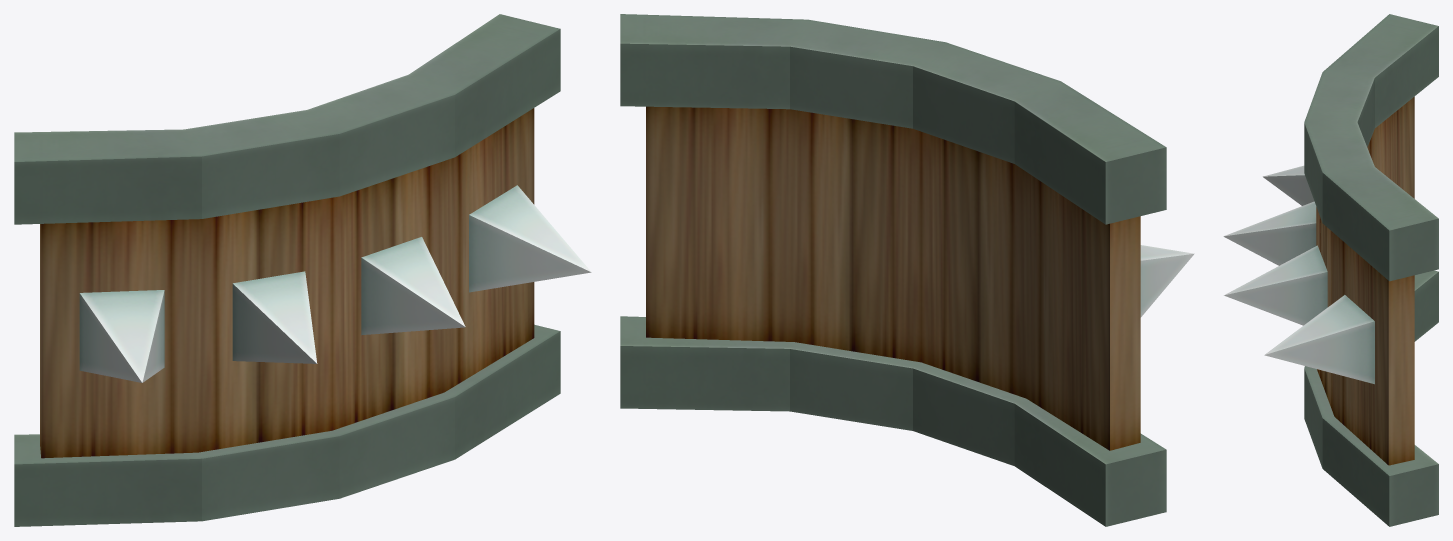
The model's file is Trap01.FBX.
The picture shows the model from 3 angles, left to right: view 1: azimuth 30°, elevation 25°; view 2: azimuth 150°, elevation 25°; view 3: azimuth 270°, elevation 25°; orthographic projection. The views are drawn at different scales.
Visible parts, largest first — view 1: Trap01; view 2: Trap01; view 3: Trap01.
Boxes of the visible parts, x1=… form: Trap01: x1=14, y1=14, x2=591, y2=526; Trap01: x1=620, y1=14, x2=1194, y2=526; Trap01: x1=1223, y1=14, x2=1438, y2=526.
Size of the model in its own units: 219 by 140 by 92.02.
